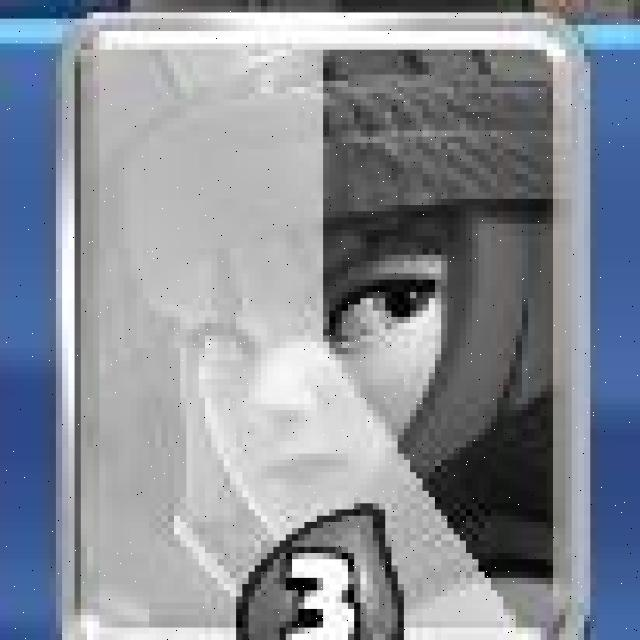Firecracker: (55, 15, 589, 640)
